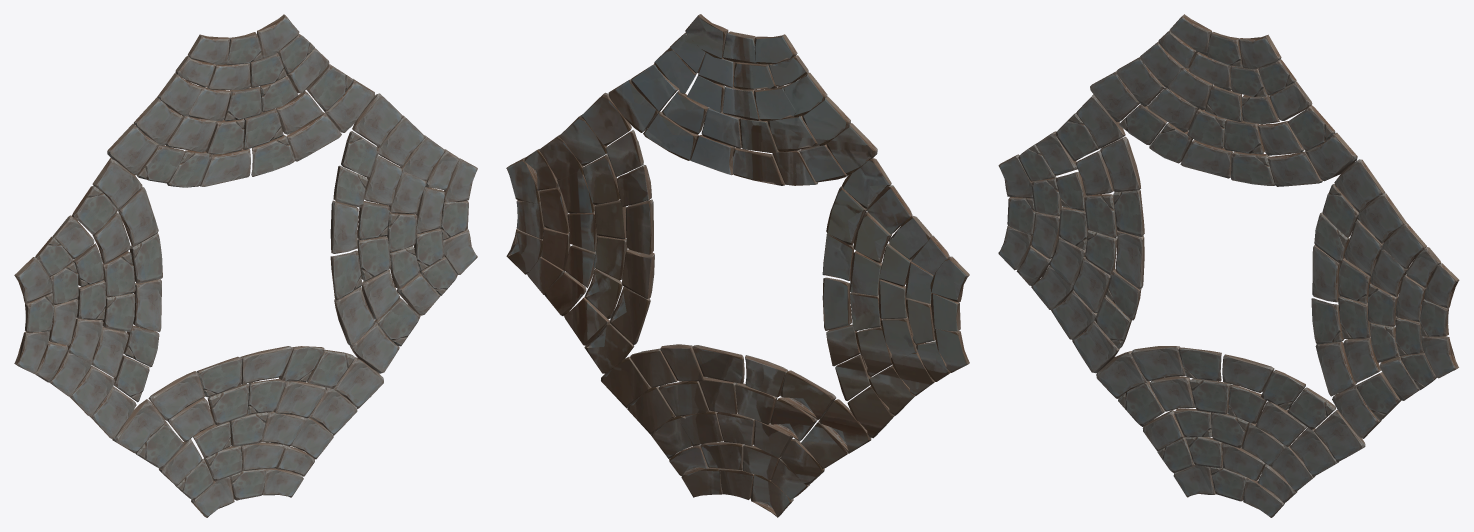
File: Vd_Vulgrim_Platform_Inside.fbx
3 renders of one model, left to right at view 1: azimuth 30°, elevation 25°; view 2: azimuth 150°, elevation 25°; view 3: azimuth 330°, elevation 25°, orthographic.
Visible parts, largest first — view 1: Vd_Vulgrim_Platform_Inside; view 2: Vd_Vulgrim_Platform_Inside; view 3: Vd_Vulgrim_Platform_Inside.
Part boxes in pixels (<box>): Vd_Vulgrim_Platform_Inside: <box>14,14,477,517</box>; Vd_Vulgrim_Platform_Inside: <box>506,14,969,517</box>; Vd_Vulgrim_Platform_Inside: <box>998,14,1459,517</box>.
Size of the model in its own units: 1985 by 1986 by 27.58.
